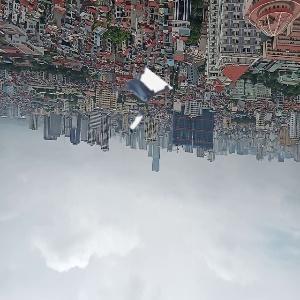drone: (101, 65, 163, 127)
